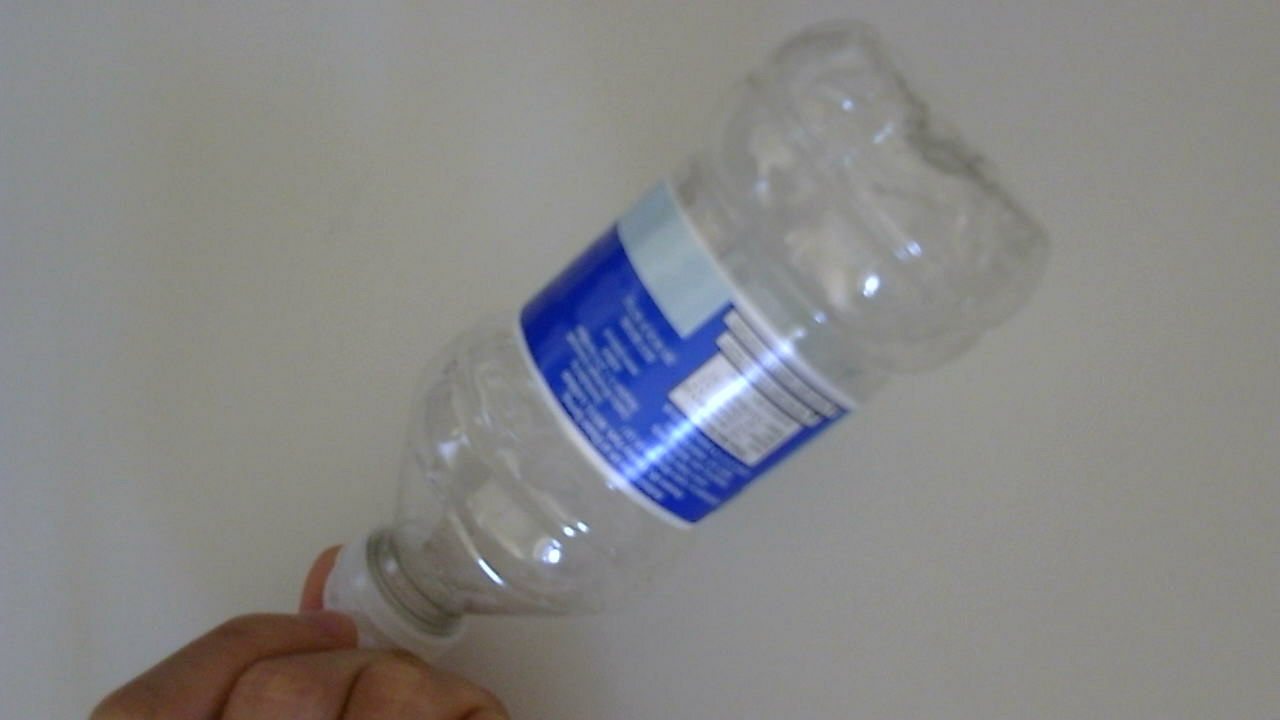Plastic Bottle: (330, 25, 1063, 662)
